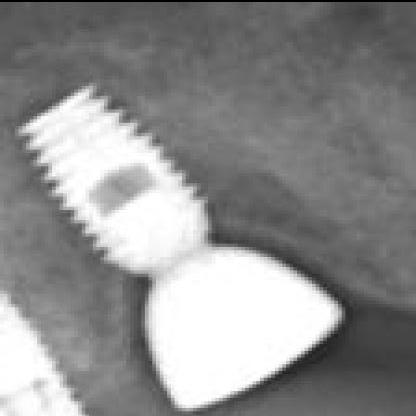Bicon: (23, 62, 221, 268)
